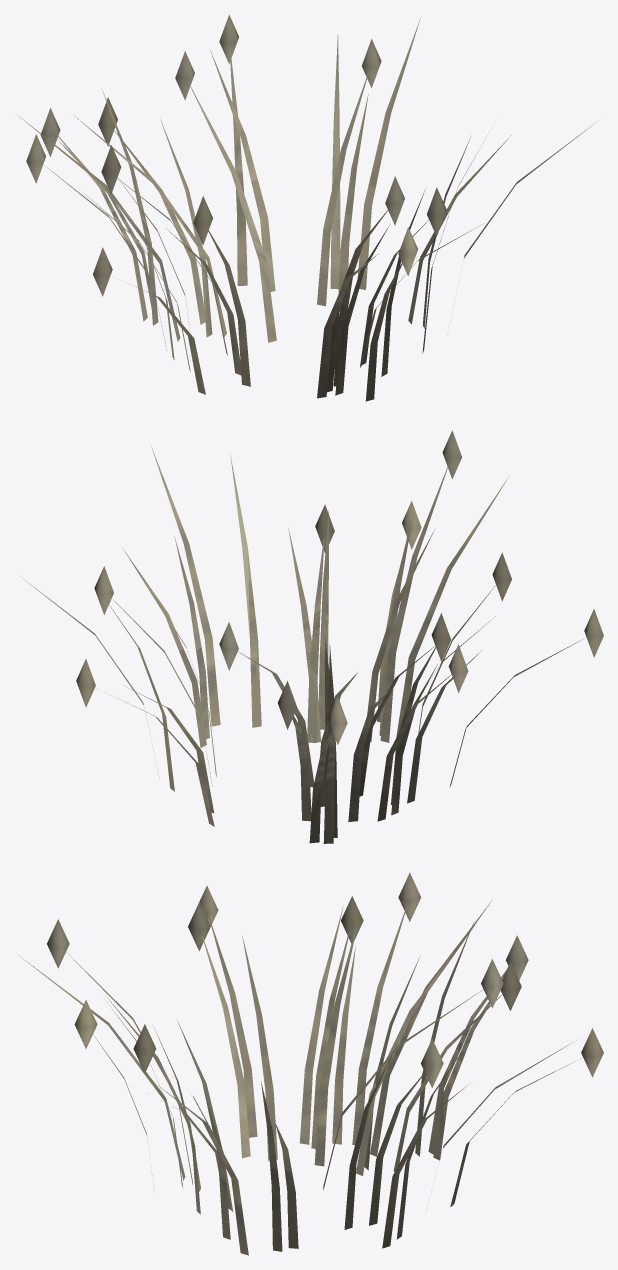
File: grass_wiry_01.glb
The picture shows the model from 3 angles, top to bottom: view 1: azimuth 30°, elevation 25°; view 2: azimuth 150°, elevation 25°; view 3: azimuth 270°, elevation 25°; orthographic projection.
Visible parts, largest first — view 1: grass_wiry_01; view 2: grass_wiry_01; view 3: grass_wiry_01.
Boxes of the visible parts, x1=… form: grass_wiry_01: x1=19, y1=15, x2=597, y2=401; grass_wiry_01: x1=18, y1=430, x2=603, y2=843; grass_wiry_01: x1=20, y1=872, x2=603, y2=1255.
Bounding box in the file's own units: 0.645 × 0.3375 × 0.6814.
1 material, 1 textured.
